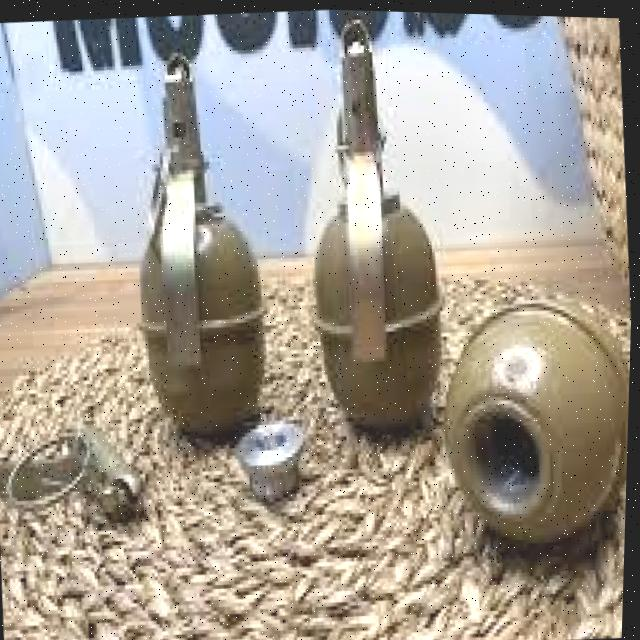grenade: (270, 7, 459, 424), (105, 38, 287, 437), (431, 237, 635, 553), (0, 391, 146, 533)
